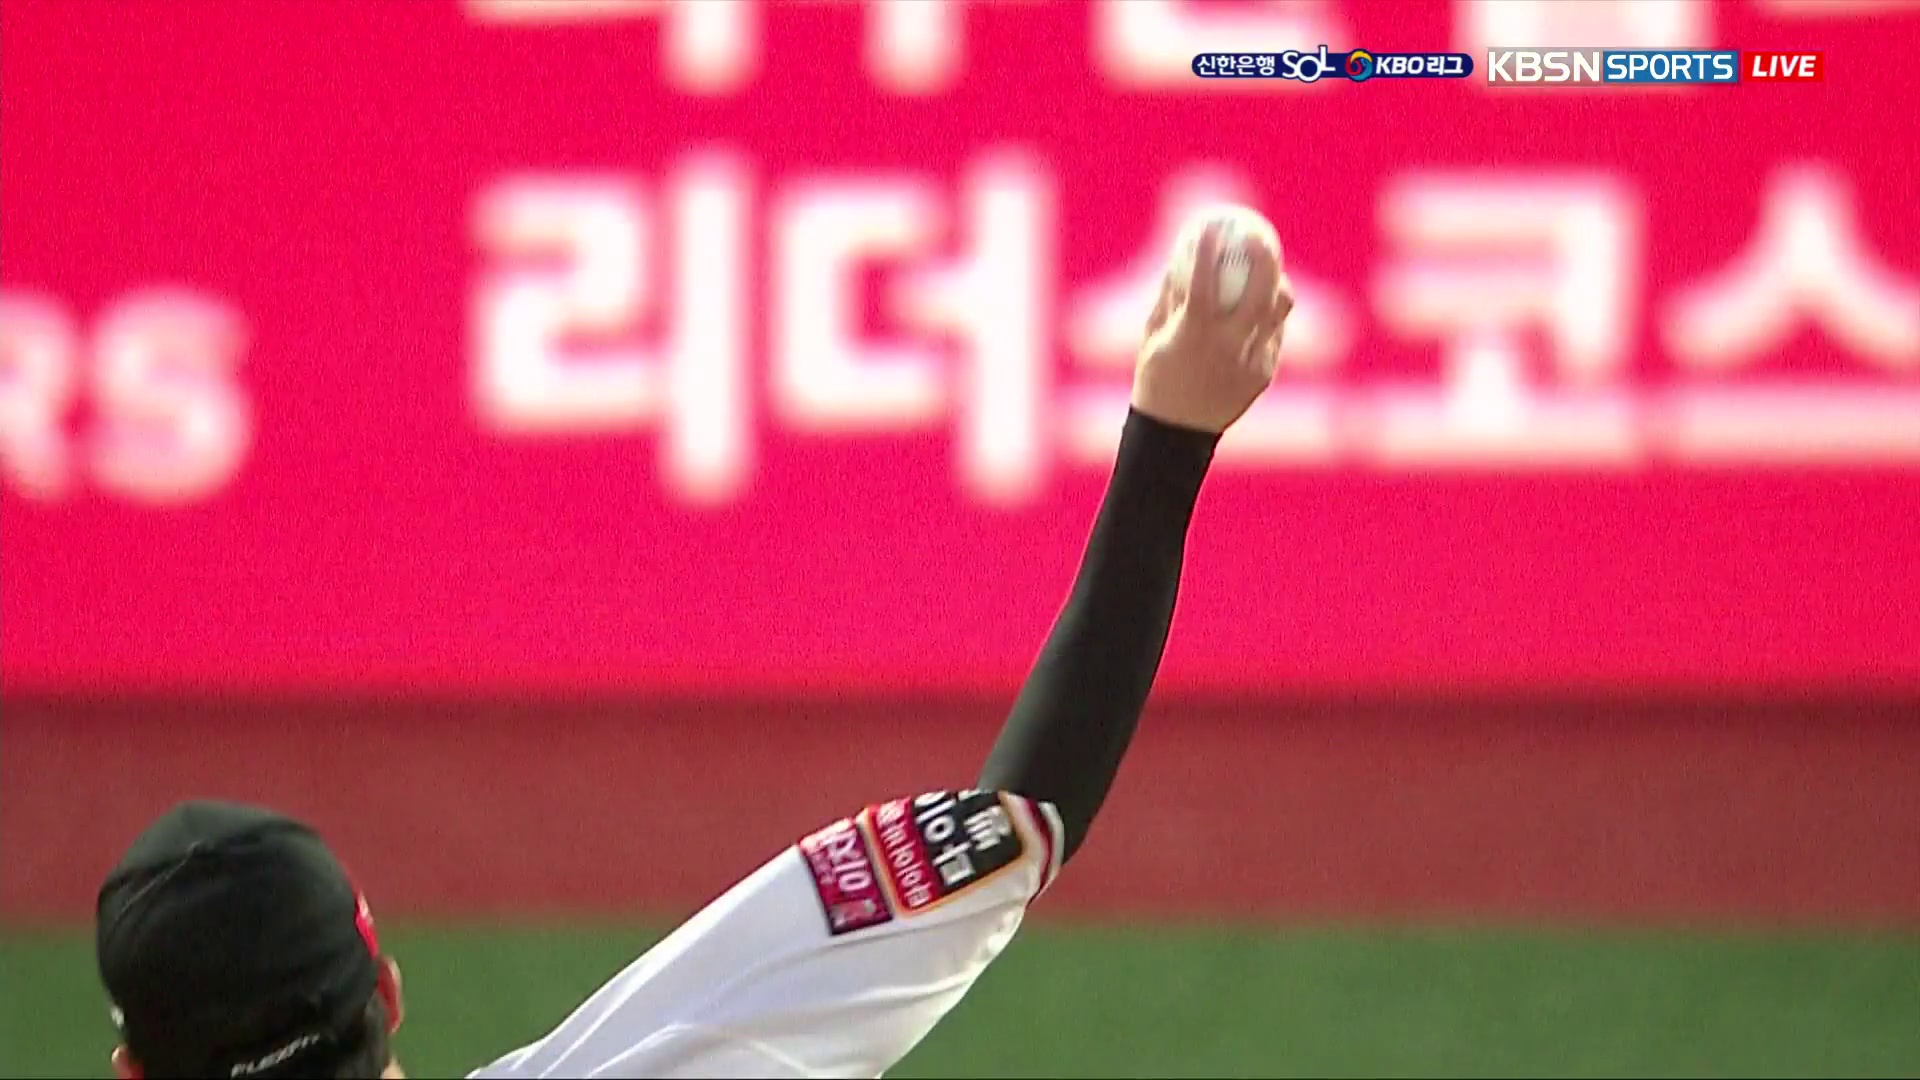zoomin_hand: (960, 198, 1298, 887)
